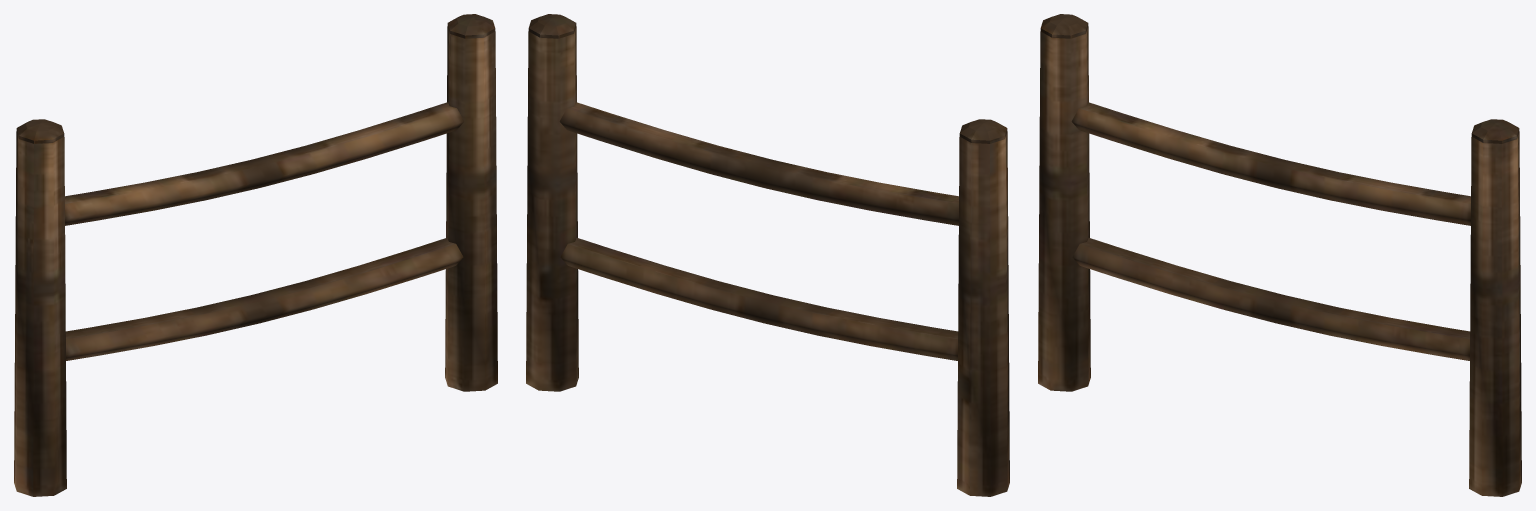
File: fence_rustic.glb
The picture shows the model from 3 angles, left to right: view 1: azimuth 30°, elevation 25°; view 2: azimuth 150°, elevation 25°; view 3: azimuth 330°, elevation 25°; orthographic projection.
Visible parts, largest first — view 1: fence_rustic; view 2: fence_rustic; view 3: fence_rustic.
Part boxes in pixels (x1,y1,x2,y2): fence_rustic: (14, 14, 497, 496); fence_rustic: (526, 14, 1009, 496); fence_rustic: (1038, 14, 1521, 496).
Size of the model in its own units: 1.11 by 0.8034 by 0.11.
Materials: 1 (1 with a texture image).
